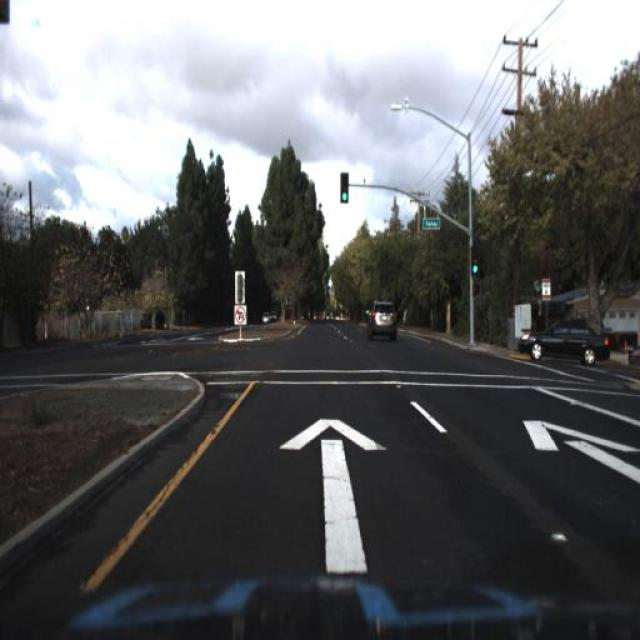car: (517, 314, 609, 366), (369, 301, 400, 343)
trafficLight-GreenLeft: (340, 166, 350, 205), (470, 244, 480, 278)
